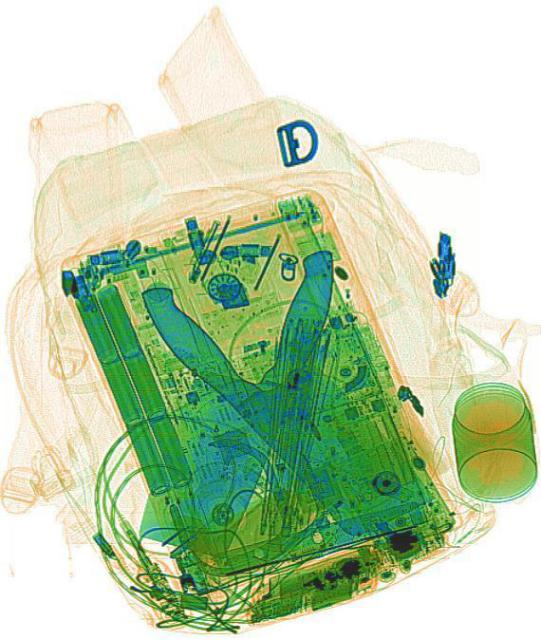Knife: (131, 230, 438, 568), (130, 216, 343, 574)
